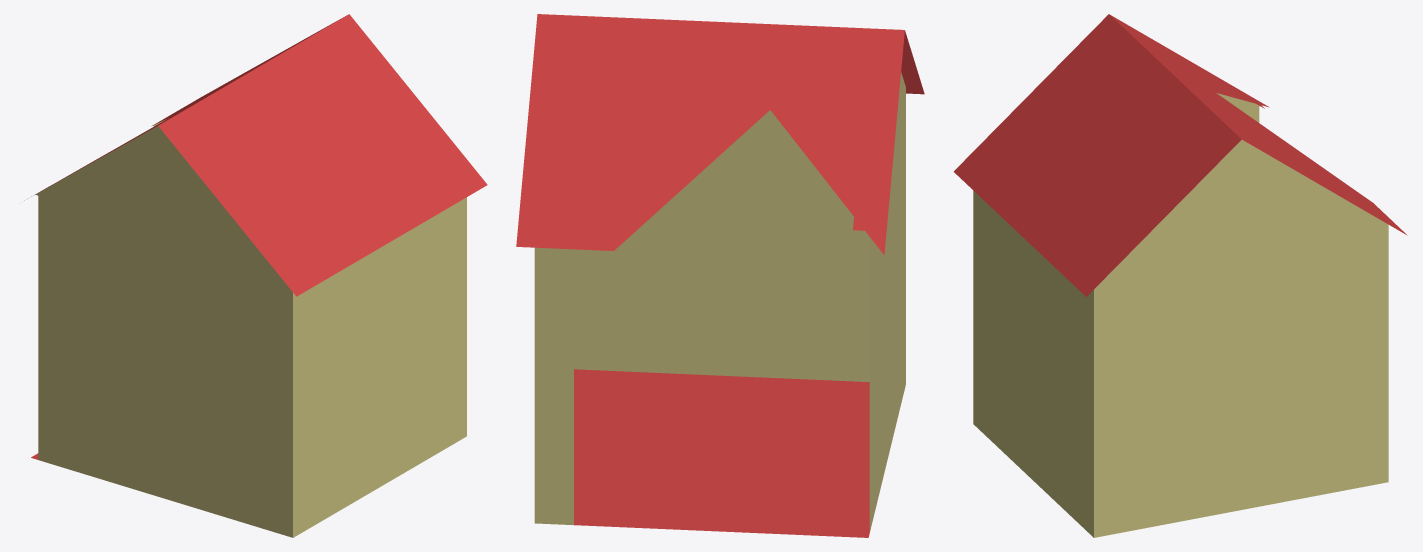
The picture shows the model from 3 angles, left to right: view 1: azimuth 30°, elevation 25°; view 2: azimuth 150°, elevation 25°; view 3: azimuth 270°, elevation 25°; orthographic projection. The views are drawn at different scales.
Size of the model in its own units: 14.7 by 15.24 by 13.95.
